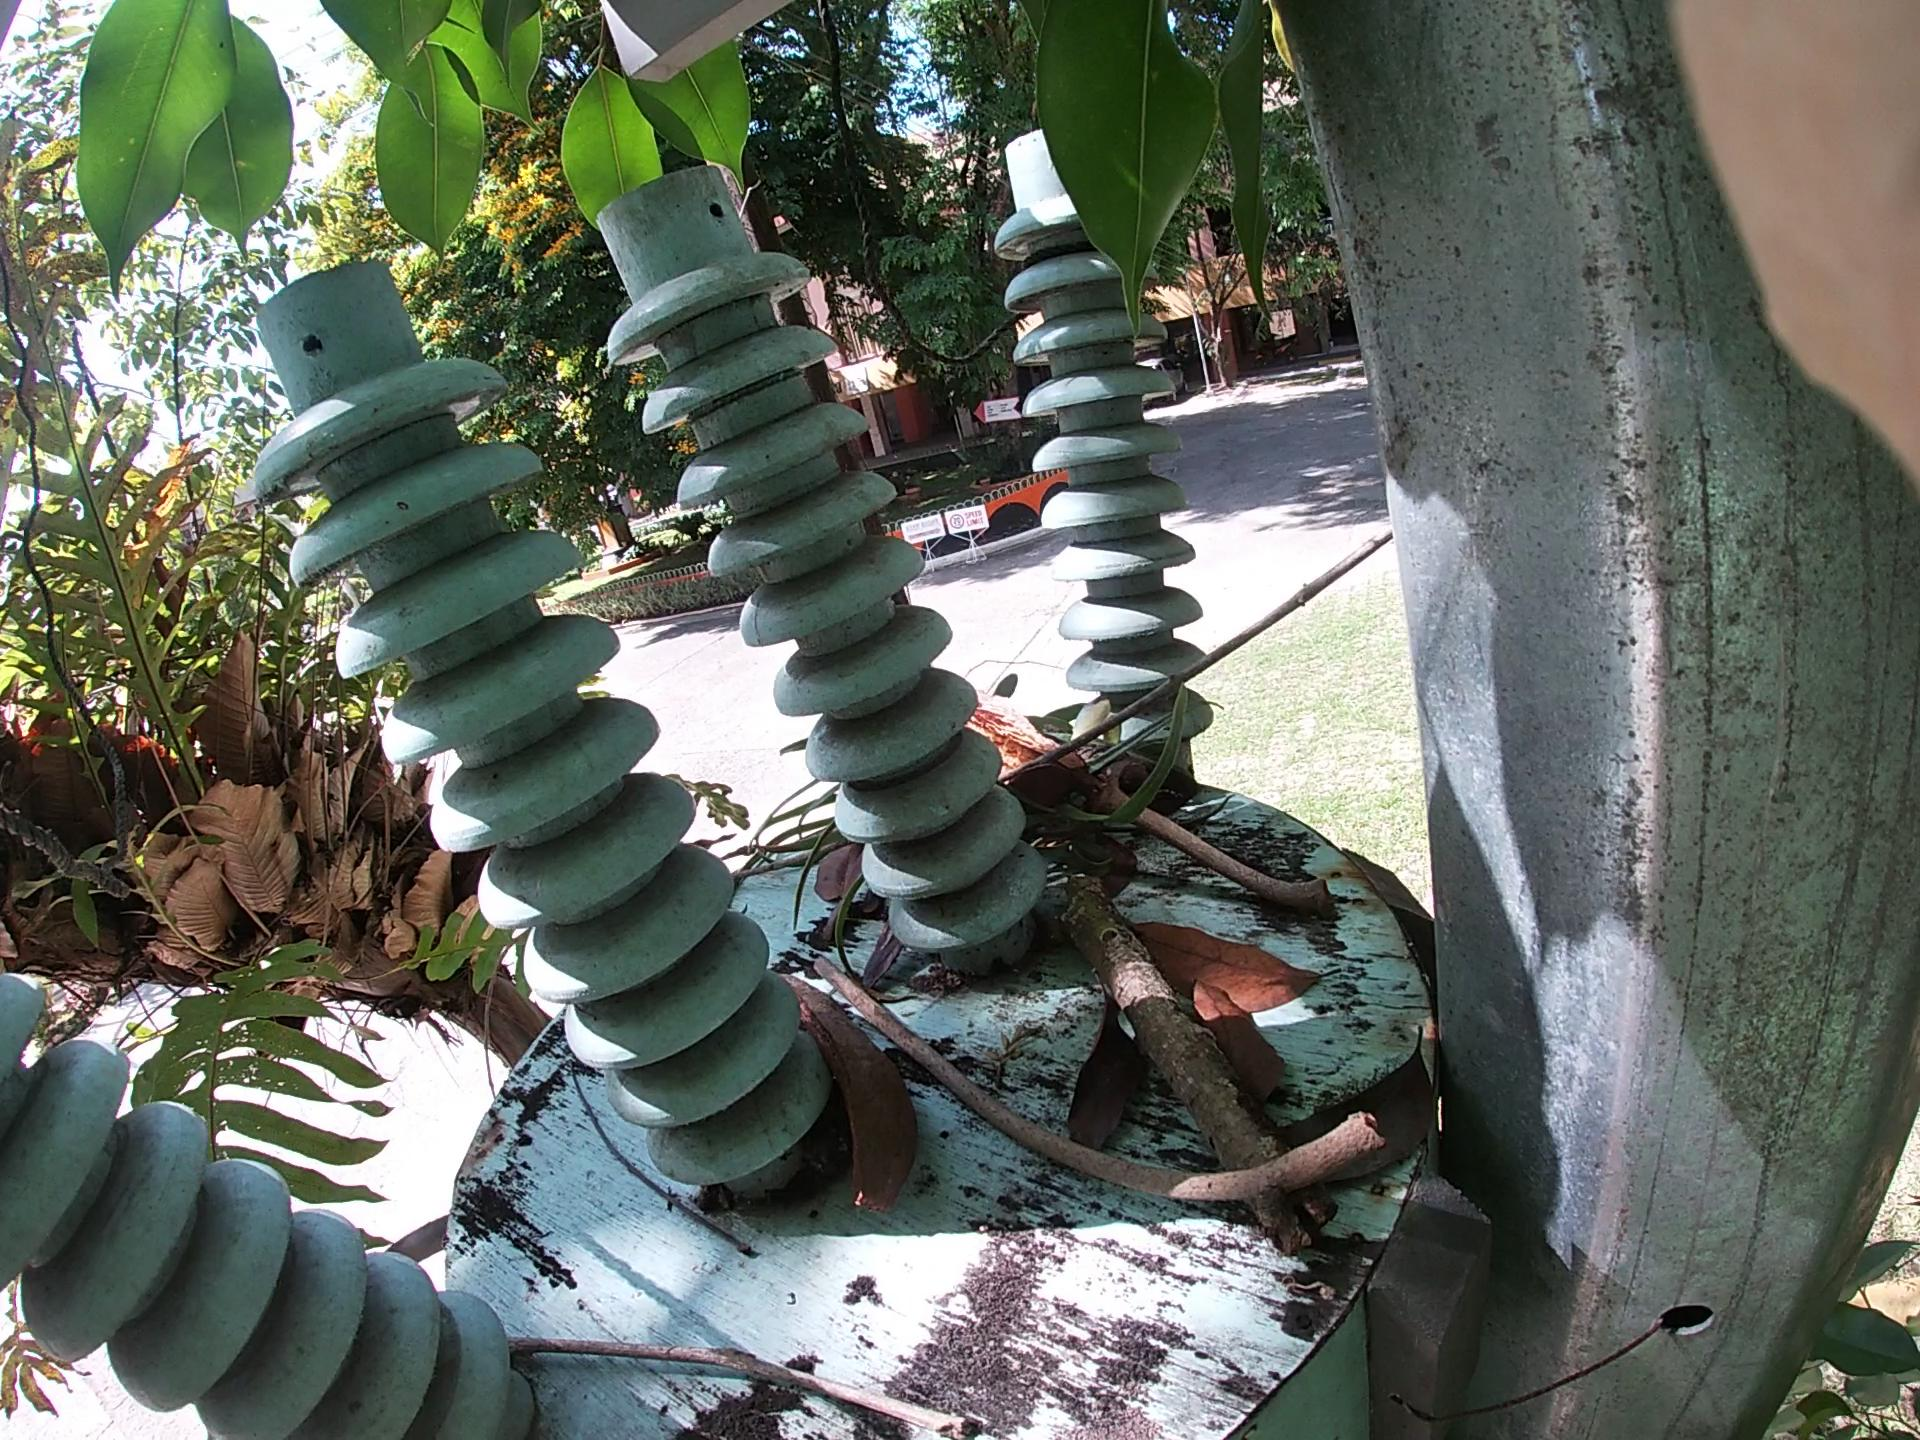branch with leaves: (958, 673, 1317, 1286)
leaf: (881, 900, 1377, 1109)
tree branch: (949, 343, 1448, 773), (783, 982, 1358, 1222), (561, 1230, 872, 1435), (1028, 737, 1231, 895)
